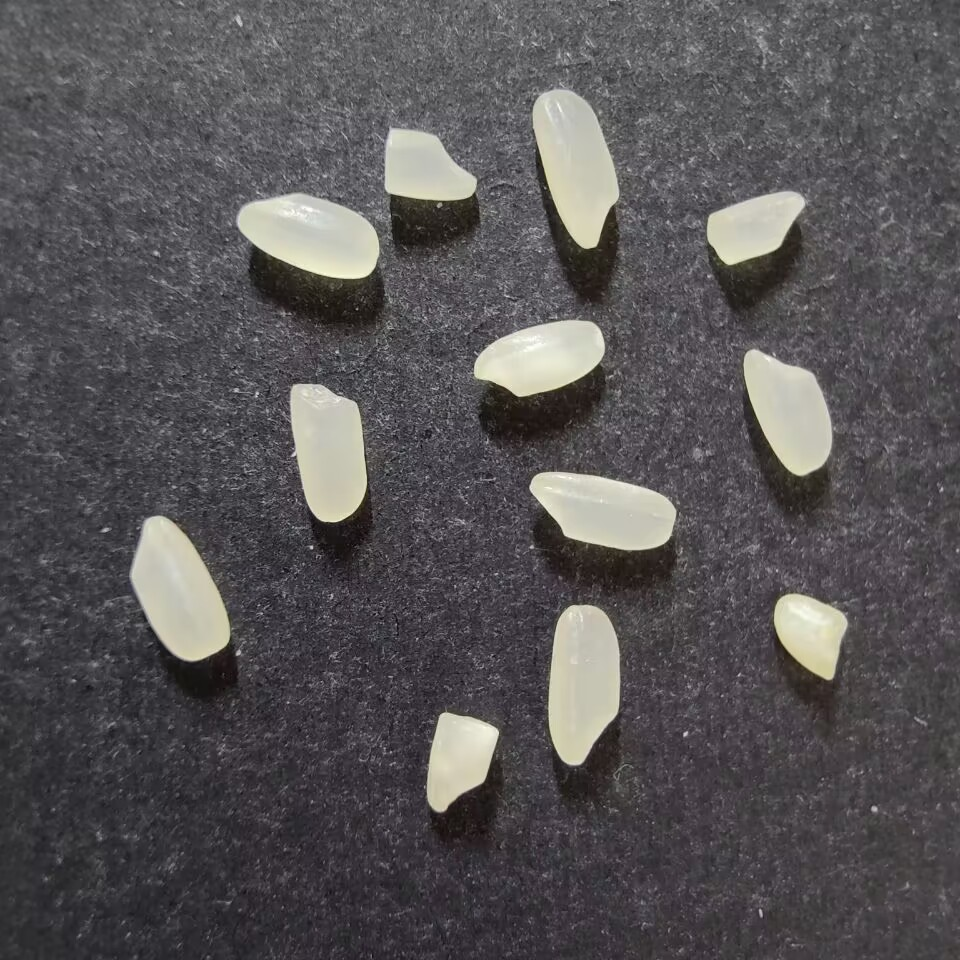broken: (425, 711, 500, 814), (705, 190, 806, 266), (382, 128, 478, 200), (772, 593, 847, 681)
rice: (129, 515, 229, 661), (531, 88, 620, 250), (235, 192, 380, 279), (547, 604, 621, 765), (528, 471, 675, 551), (742, 348, 832, 476), (288, 382, 368, 522), (472, 318, 605, 397)
